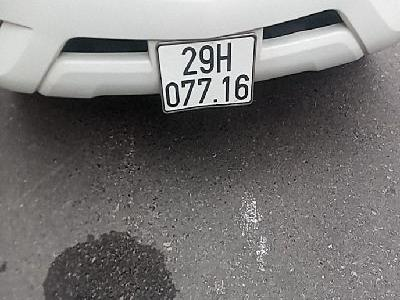number: (157, 34, 255, 112)
